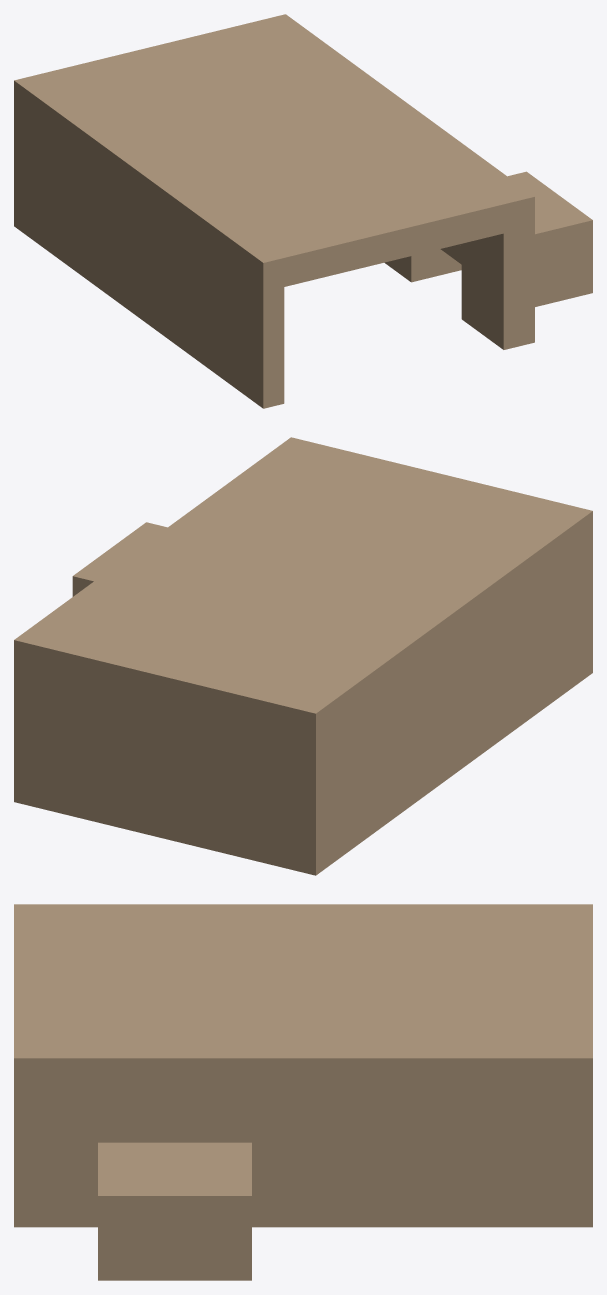
The model's file is house.glb.
3 renders of one model, top to bottom at view 1: azimuth 30°, elevation 25°; view 2: azimuth 150°, elevation 25°; view 3: azimuth 270°, elevation 25°, orthographic. The views are drawn at different scales.
Parts seen in each view (by area): view 1: Mesh_Mesh_head_geo.001_lambert2SG.001; view 2: Mesh_Mesh_head_geo.001_lambert2SG.001; view 3: Mesh_Mesh_head_geo.001_lambert2SG.001.
Boxes of the visible parts, box(x1,y1,x2,y2) form: Mesh_Mesh_head_geo.001_lambert2SG.001: box(14, 14, 592, 408); Mesh_Mesh_head_geo.001_lambert2SG.001: box(14, 437, 592, 875); Mesh_Mesh_head_geo.001_lambert2SG.001: box(14, 904, 592, 1280).
Bounding box in the file's own units: 0.105 × 0.04 × 0.124.
